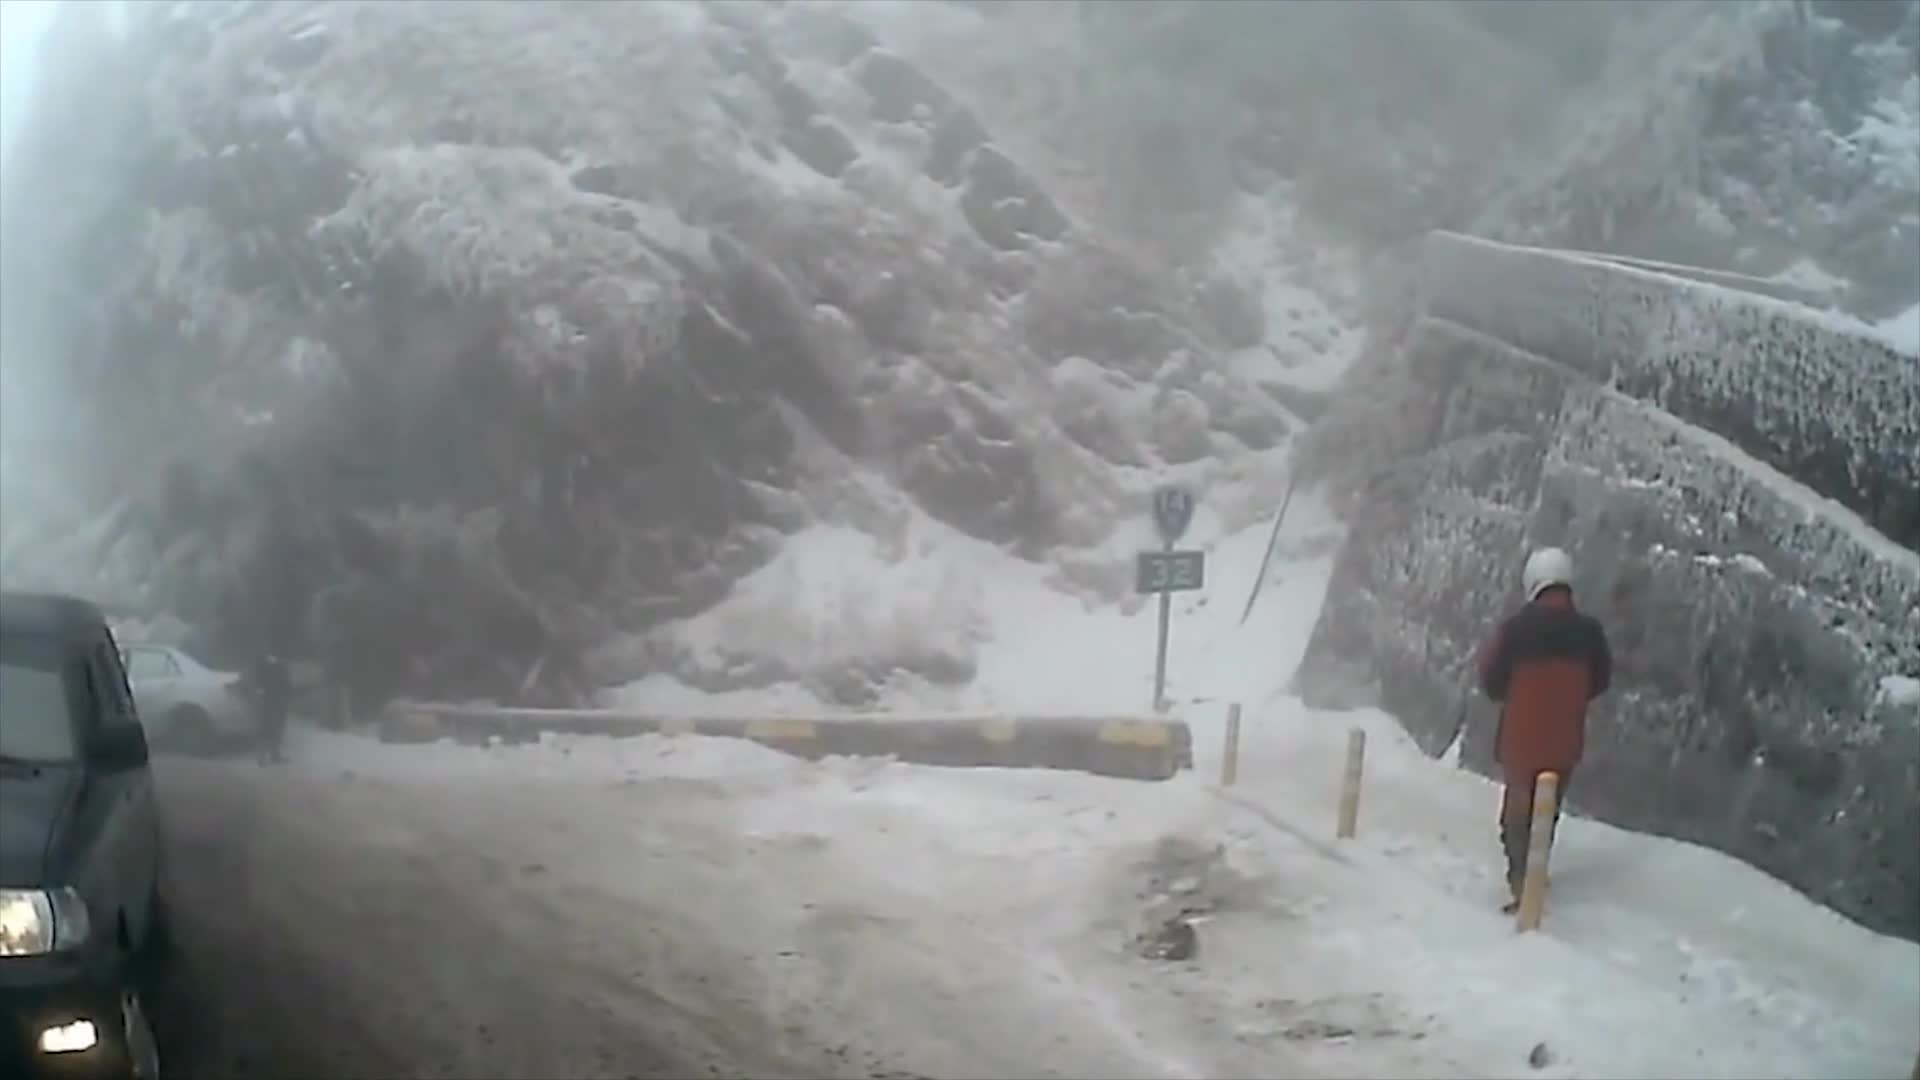pedestrian: (1476, 544, 1609, 914), (250, 649, 297, 769)
vehicle: (0, 598, 192, 1080), (0, 642, 255, 759)
